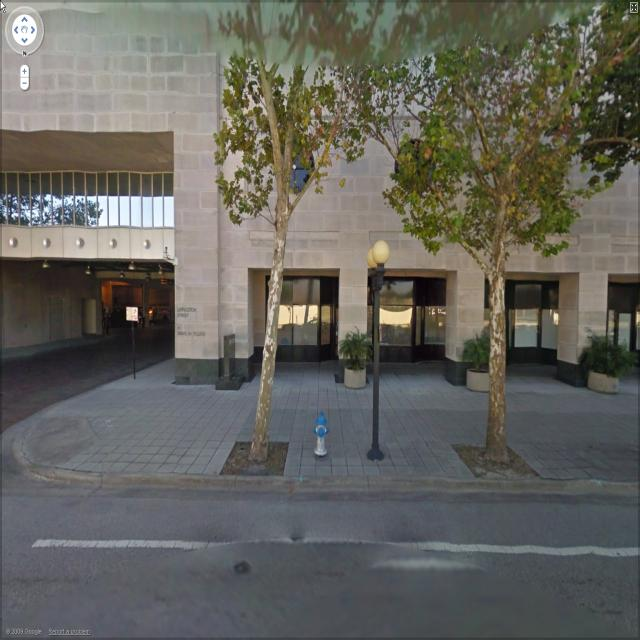b_2: (2, 2, 636, 386)
